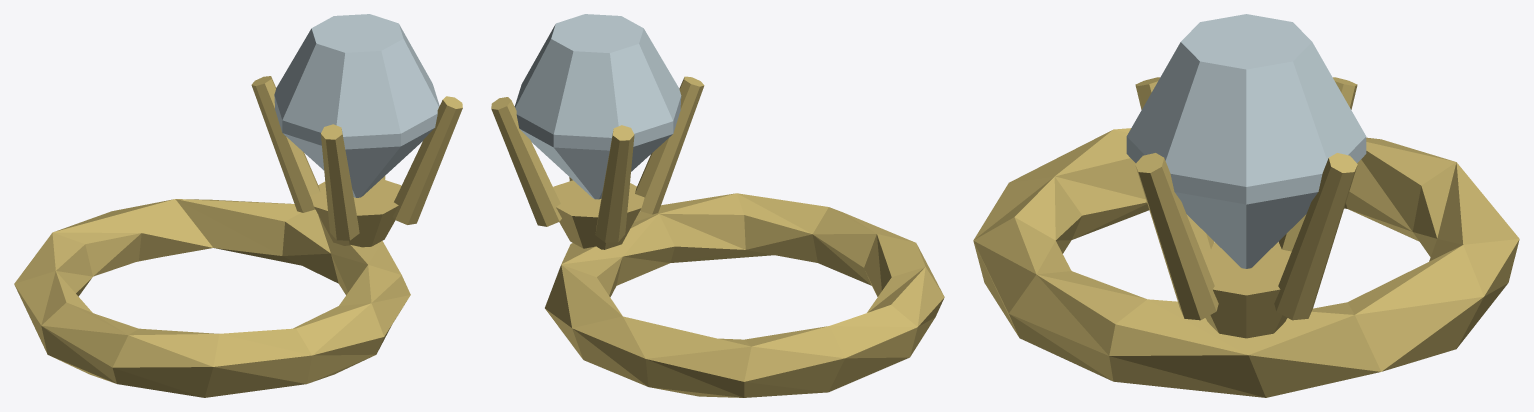
3 views of the same model, side by side, from view 1: azimuth 30°, elevation 25°; view 2: azimuth 150°, elevation 25°; view 3: azimuth 270°, elevation 25° (orthographic). The views are drawn at different scales.
Visible parts, largest first — view 1: part0, part2, part4, part5, part6, part1; view 2: part0, part2, part3, part6, part5, part1; view 3: part0, part2, part3, part4, part1, part5, part6.
Part boxes in pixels (bbox=[...]): part0: bbox=[14, 199, 410, 397]; part2: bbox=[274, 14, 439, 197]; part4: bbox=[393, 96, 462, 224]; part5: bbox=[251, 76, 320, 212]; part6: bbox=[321, 124, 359, 240]; part1: bbox=[310, 179, 401, 247]; part0: bbox=[545, 193, 944, 397]; part2: bbox=[514, 14, 681, 199]; part3: bbox=[491, 97, 561, 226]; part6: bbox=[635, 76, 704, 214]; part5: bbox=[595, 125, 634, 242]; part1: bbox=[553, 180, 644, 249]; part0: bbox=[973, 128, 1519, 397]; part2: bbox=[1126, 14, 1366, 268]; part3: bbox=[1274, 153, 1357, 320]; part4: bbox=[1135, 153, 1218, 320]; part1: bbox=[1201, 242, 1291, 338]; part5: bbox=[1278, 77, 1357, 251]; part6: bbox=[1135, 77, 1214, 251].
Bounding box in the file's own units: 1.62 × 1 × 1.41.
